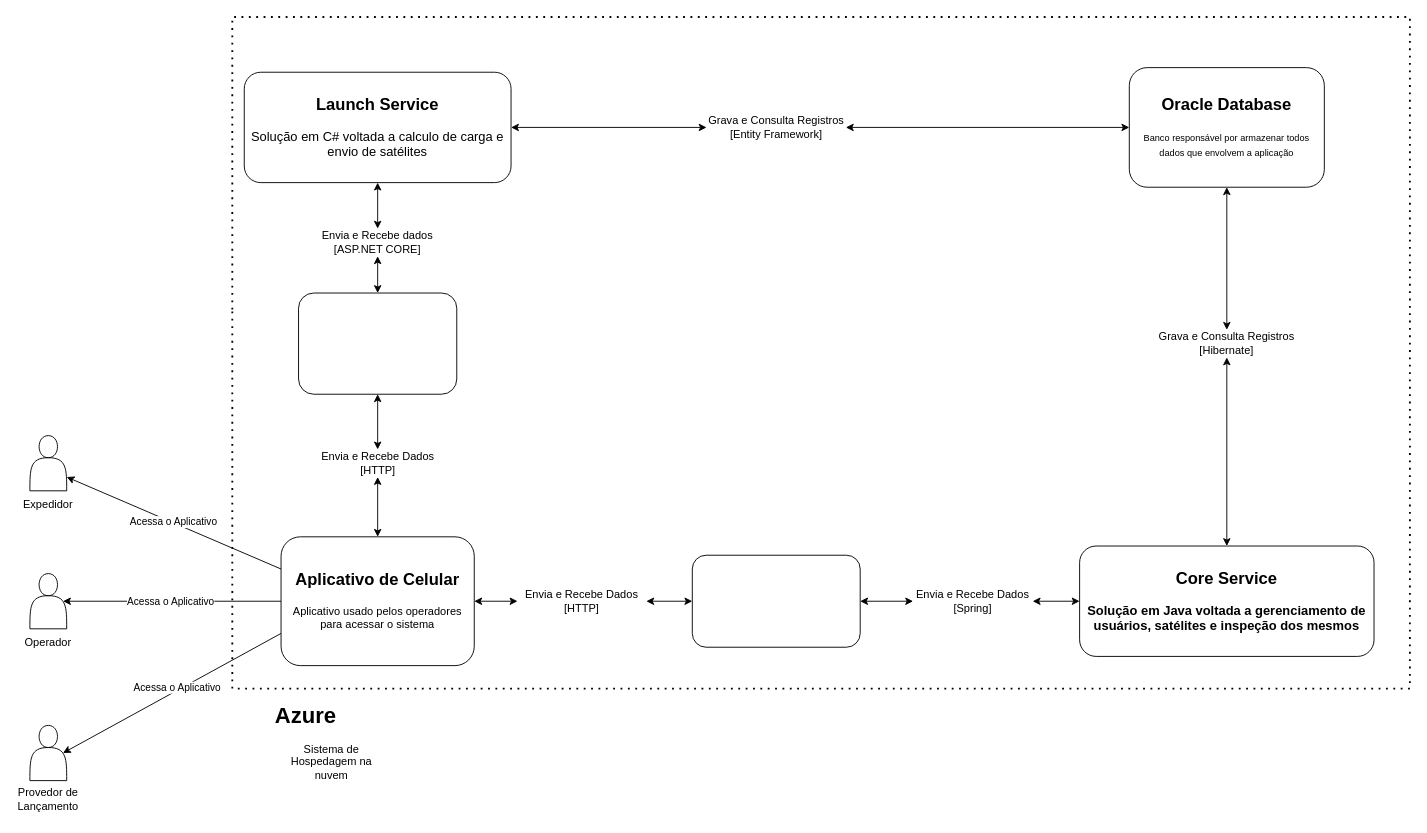
The diagram is 1427 pixels wide and 833 high, and some of its shapes have lost their labels. Here are the shapes that lost their labels. From the top down, the box of each, then its label:
(298, 292, 457, 394): API REST API utilizada para troca de dados entre front e back-end
(691, 554, 860, 647): API Spring API REST criada por meio do framework Spring
